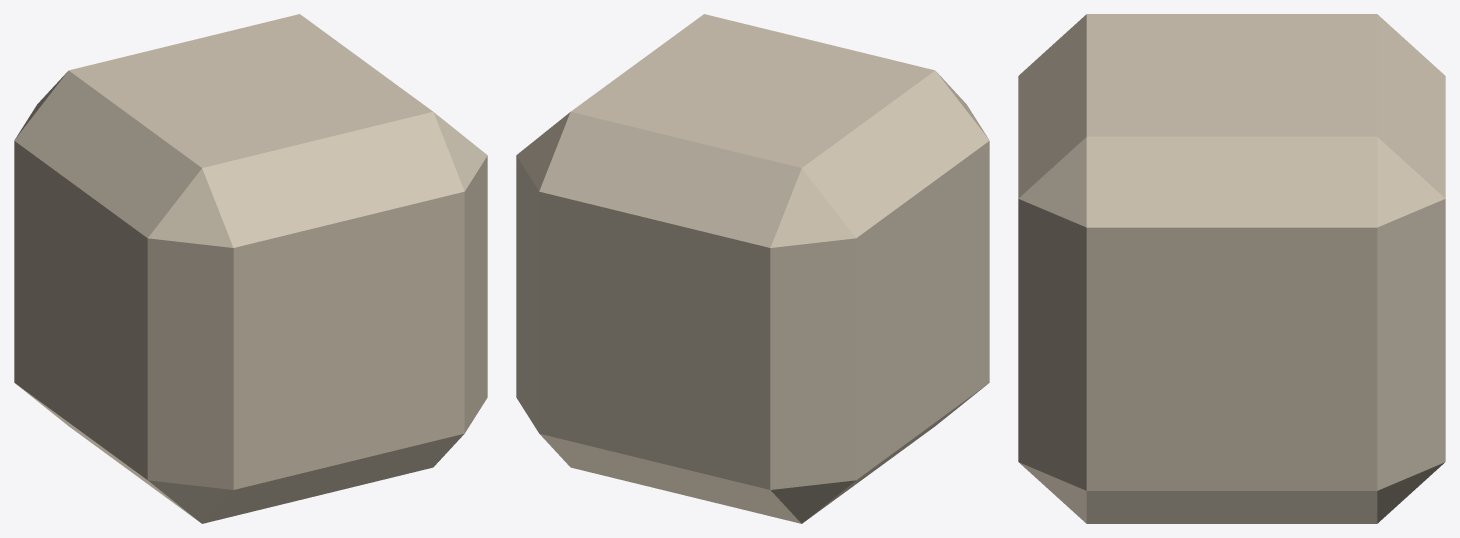
Rendered from COLOR 1.fbx.
3 renders of one model, left to right at view 1: azimuth 30°, elevation 25°; view 2: azimuth 150°, elevation 25°; view 3: azimuth 270°, elevation 25°, orthographic. The views are drawn at different scales.
Visible parts, largest first — view 1: Cube; view 2: Cube; view 3: Cube.
Part boxes in pixels (<box>): Cube: <box>14,14,487,523</box>; Cube: <box>516,14,989,523</box>; Cube: <box>1018,14,1445,523</box>.
Size of the model in its own units: 1000 by 1000 by 1000.
